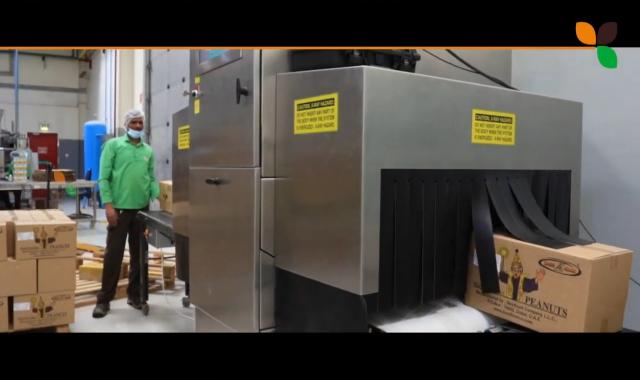hairnet: (120, 110, 147, 128)
